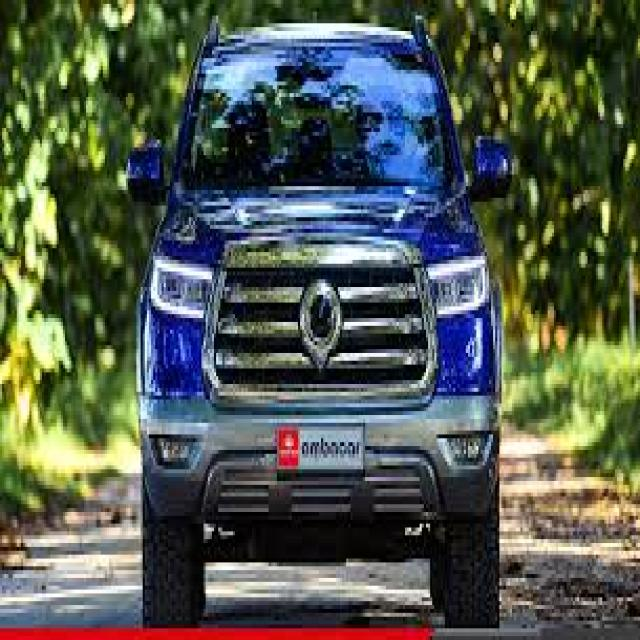CMT: (133, 11, 502, 635)
